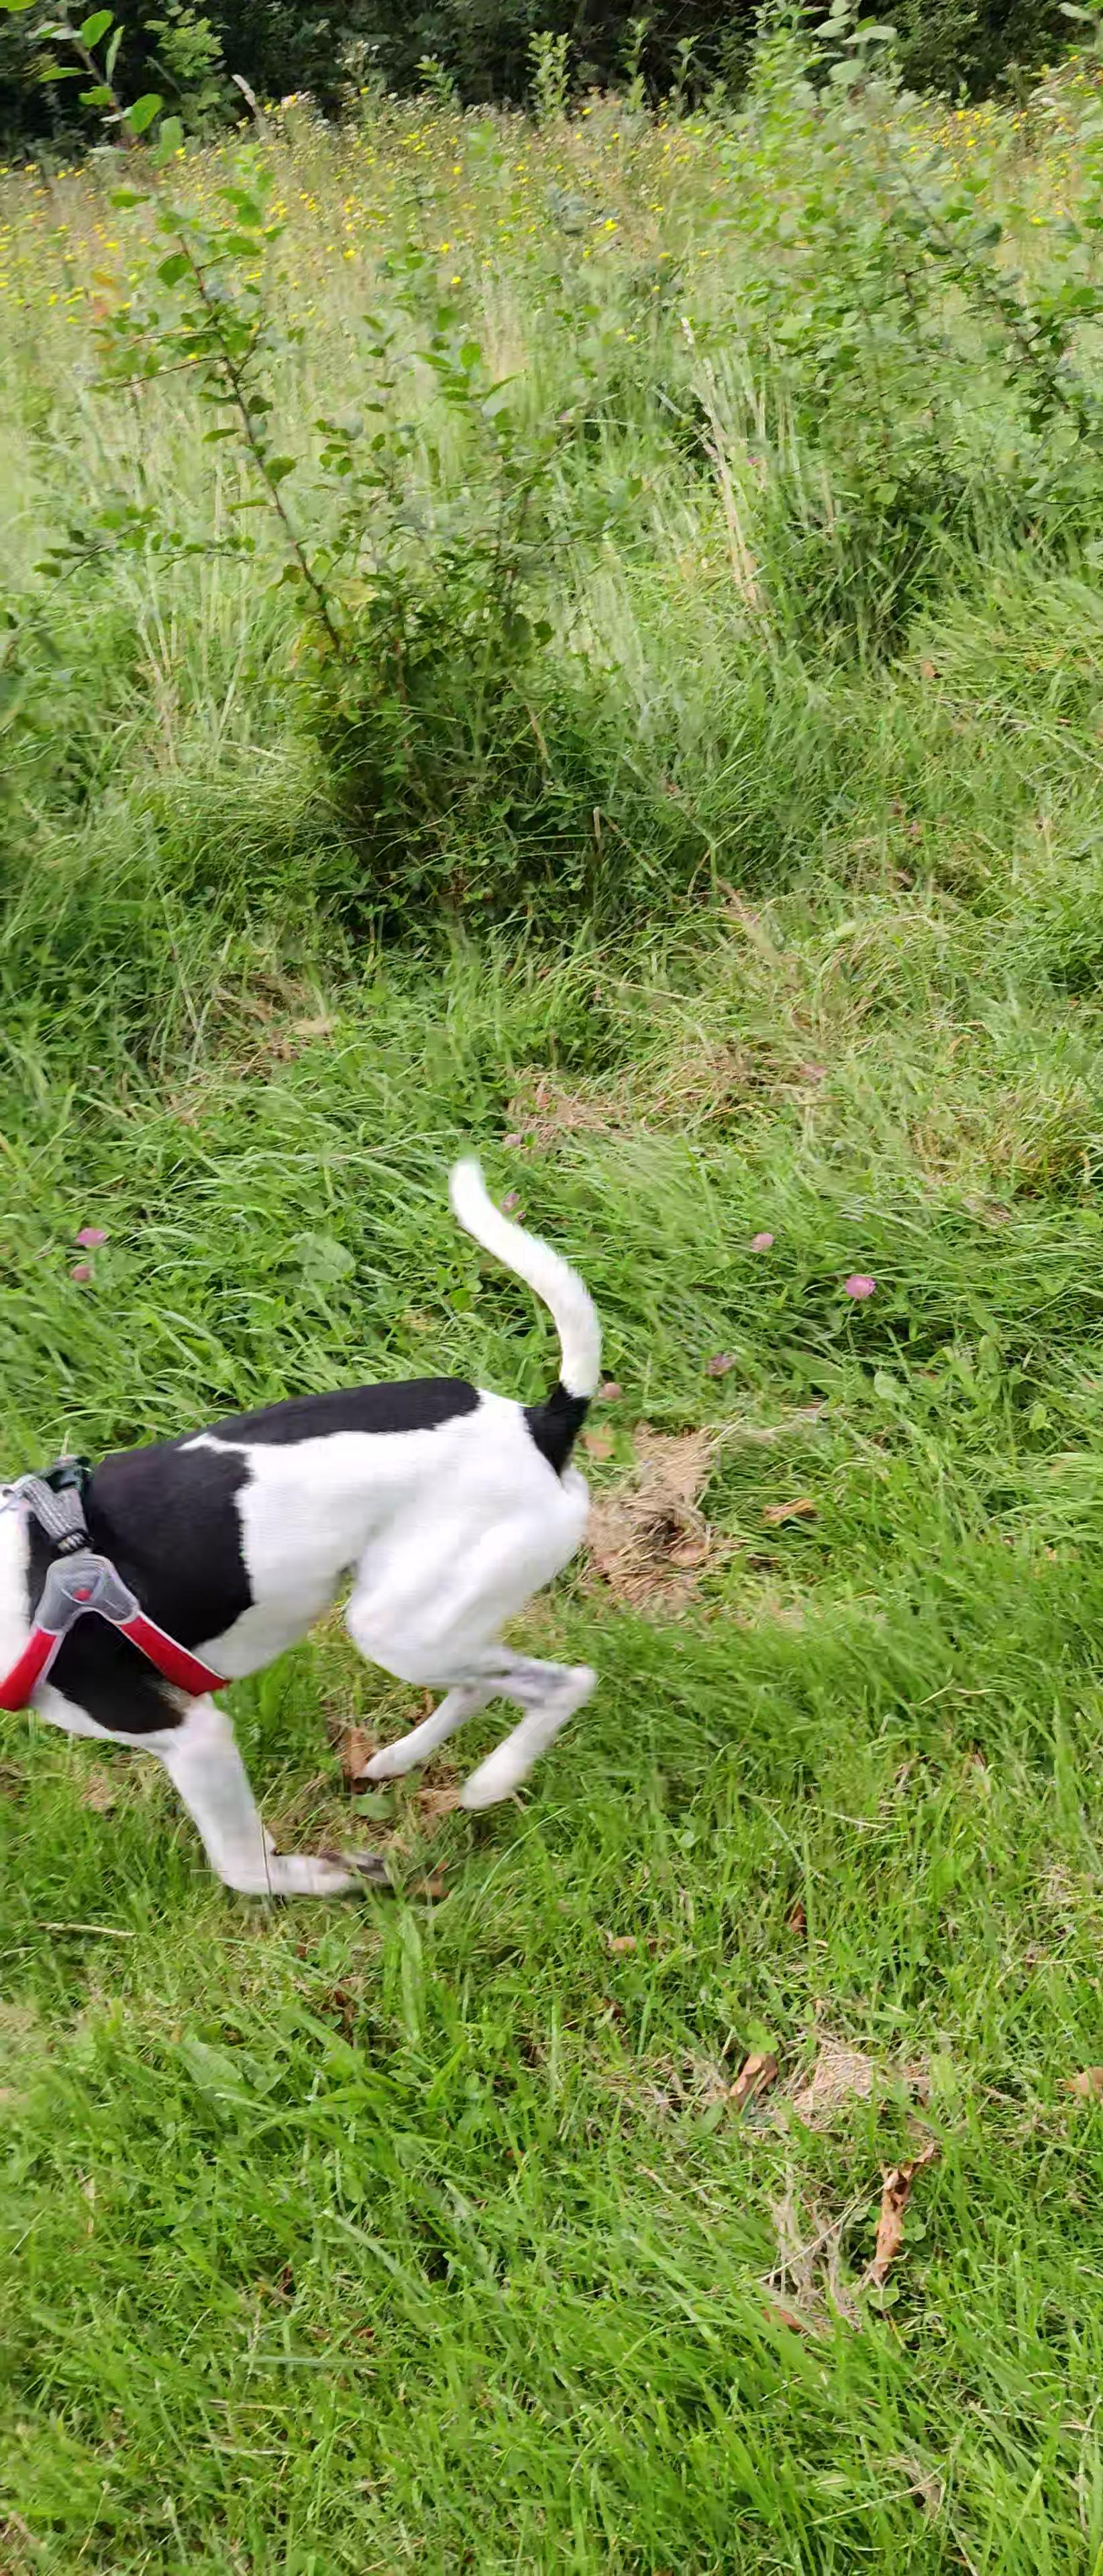Dog: (0, 1145, 623, 1911)
